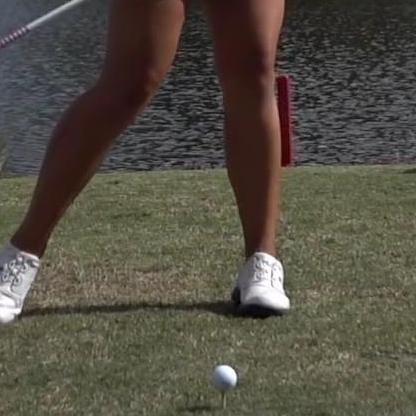golfball: (208, 362, 236, 392)
